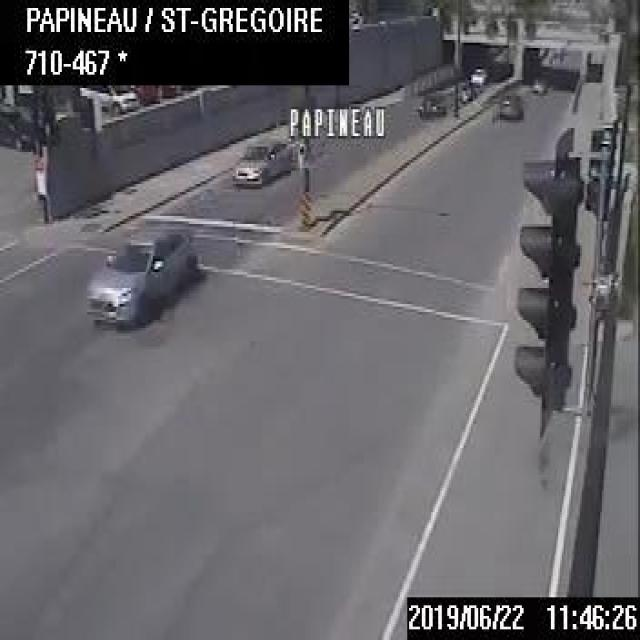vehicle: (82, 227, 198, 320), (231, 134, 294, 184), (0, 99, 42, 149), (80, 84, 140, 114), (498, 96, 520, 117), (418, 93, 436, 115), (469, 67, 484, 80)
